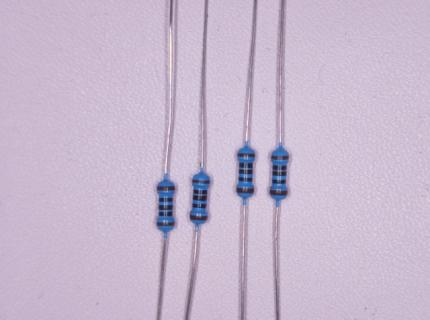Black band: (239, 162, 253, 168), (193, 195, 207, 201), (192, 203, 206, 209), (159, 204, 173, 210), (194, 189, 207, 195), (159, 211, 172, 217), (273, 165, 287, 170), (273, 171, 287, 176), (272, 179, 286, 184), (238, 177, 252, 182), (239, 169, 253, 174), (159, 197, 173, 202)
Brown band: (190, 214, 208, 220), (270, 189, 287, 195), (157, 186, 175, 191), (157, 221, 175, 226), (192, 179, 210, 184), (236, 188, 254, 193), (271, 155, 289, 160), (238, 153, 255, 157)
